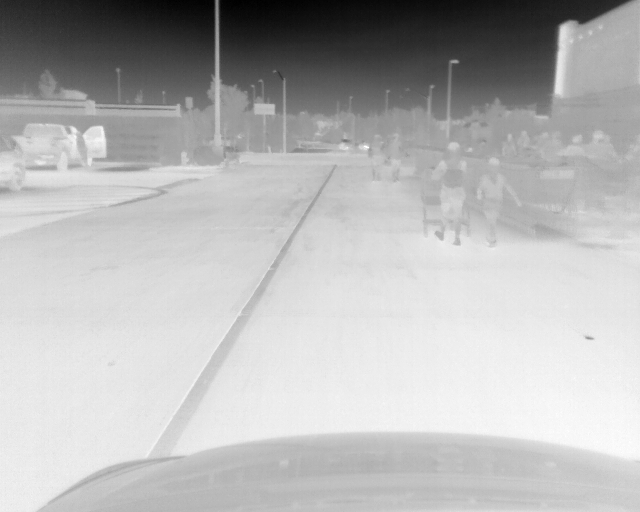car: (13, 123, 106, 170), (2, 134, 25, 189), (358, 139, 371, 153), (337, 139, 350, 151)
people: (477, 158, 522, 246), (433, 141, 467, 245), (581, 130, 617, 214), (620, 135, 640, 210), (366, 133, 386, 180), (388, 132, 404, 183), (561, 132, 584, 162), (73, 129, 89, 165), (501, 133, 518, 150), (520, 130, 531, 150)
